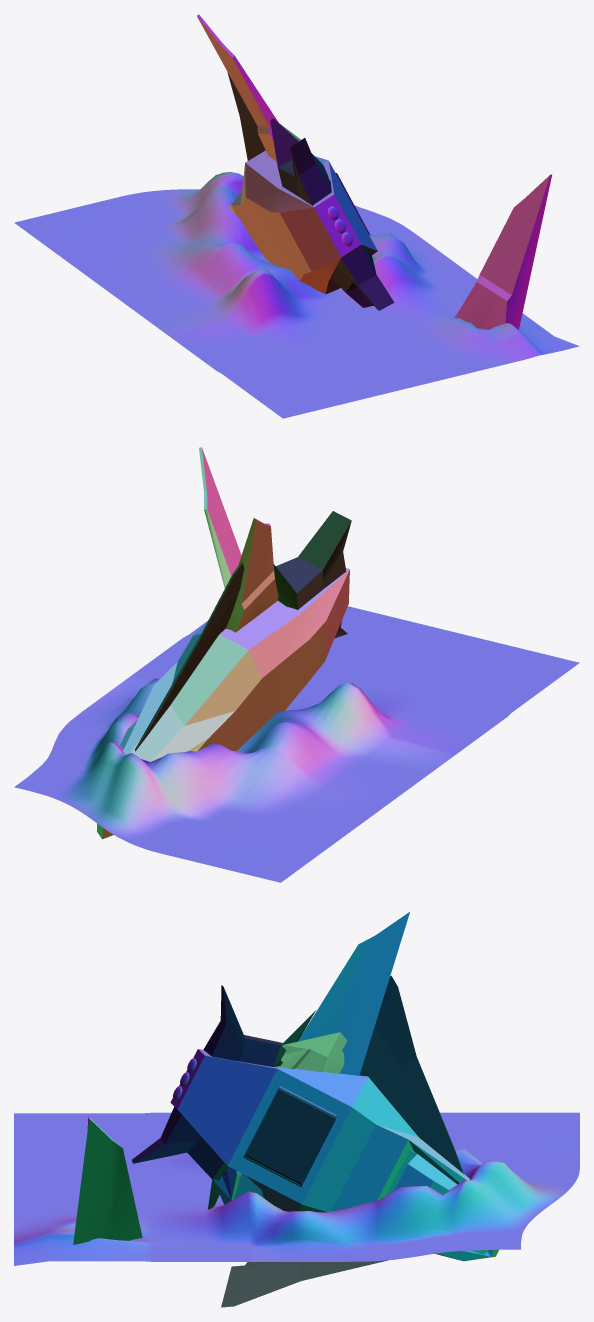
Rendered from shipwreck.fbx.
3 views of the same model, one above another, from view 1: azimuth 30°, elevation 25°; view 2: azimuth 150°, elevation 25°; view 3: azimuth 270°, elevation 25° (orthographic). The views are drawn at different scales.
Visible parts, largest first — view 1: pPlane4, polySurface11, polySurface1, polySurface15, polySurface5, polySurface10, polySurface7; view 2: pPlane4, polySurface11, polySurface15, polySurface10, polySurface7, polySurface1; view 3: pPlane4, polySurface11, polySurface7, polySurface10, polySurface1, polySurface3, polySurface14, polySurface15, polySurface5, polySurface8, polySurface9, polySurface2.
Part boxes in pixels (<box>): pPlane4: <box>14,172,579,418</box>; polySurface11: <box>228,150,377,294</box>; polySurface1: <box>454,174,552,329</box>; polySurface15: <box>270,118,331,205</box>; polySurface5: <box>332,246,394,310</box>; polySurface10: <box>197,14,279,161</box>; polySurface7: <box>227,72,265,160</box>; pPlane4: <box>14,606,579,882</box>; polySurface11: <box>97,568,349,839</box>; polySurface15: <box>273,511,351,609</box>; polySurface10: <box>226,518,278,632</box>; polySurface7: <box>135,562,244,751</box>; polySurface1: <box>199,447,241,588</box>; pPlane4: <box>14,1112,579,1265</box>; polySurface11: <box>170,1049,498,1261</box>; polySurface7: <box>359,975,463,1173</box>; polySurface10: <box>298,912,409,1075</box>; polySurface1: <box>73,1117,142,1244</box>; polySurface3: <box>244,1088,337,1186</box>; polySurface14: <box>221,1260,387,1307</box>; polySurface15: <box>203,985,315,1066</box>; polySurface5: <box>132,1107,228,1209</box>; polySurface8: <box>280,1032,347,1073</box>; polySurface9: <box>386,1149,488,1254</box>; polySurface2: <box>213,1167,263,1204</box>.
Size of the model in its own units: 7.96 by 8.05 by 12.1.
